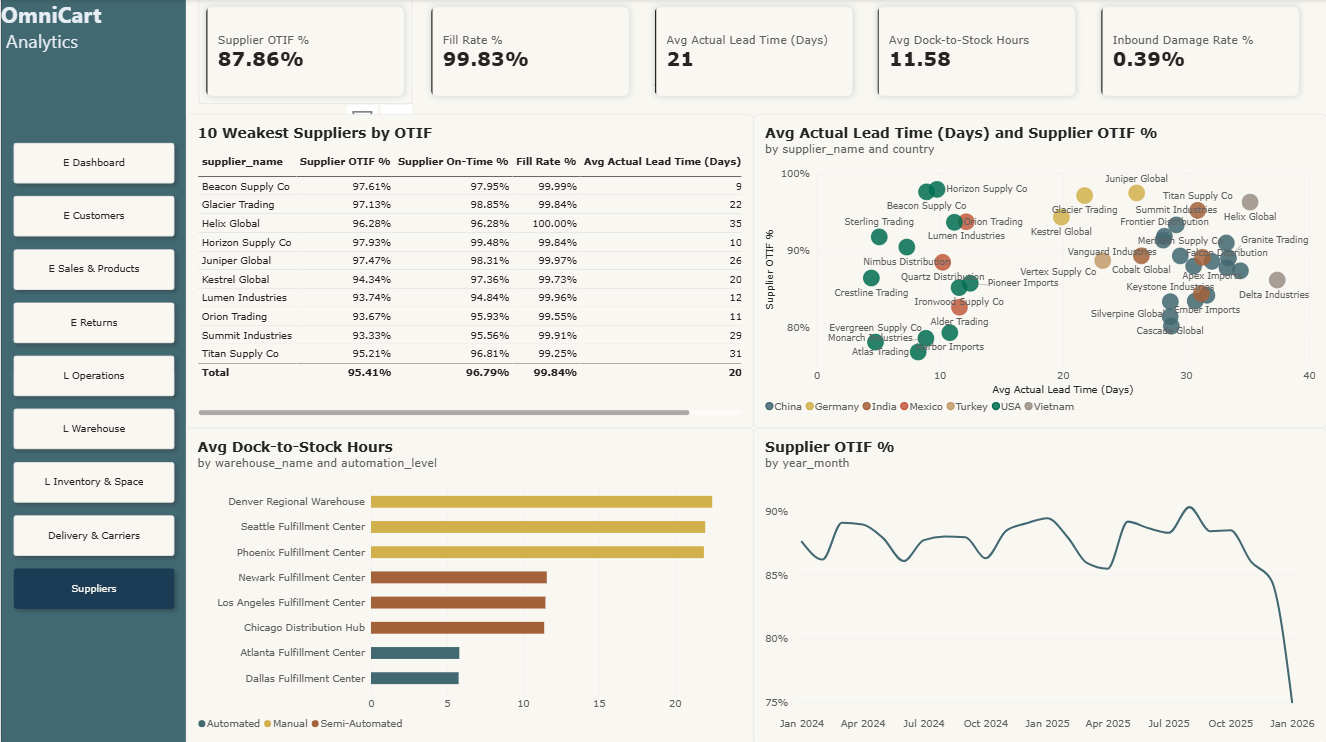

The dashboard page shown, as its layout file describes it:
{"tool":"powerbi","page":{"name":"Suppliers ","canvas":[1920,1080],"ordinal":8},"visuals":[{"type":"shape","box":[0,0,267.6,1080.6],"z":0},{"type":"pageNavigator","box":[8.1,199.1,251.5,698.5],"z":1000},{"type":"textbox","box":[-0.9,0,267.8,115.8],"z":2000},{"type":"cardVisual","fields":{"Data":["_Measures.Supplier OTIF %"]},"box":[285.9,0,309.5,152],"z":4000},{"type":"cardVisual","fields":{"Data":["_Measures.Inbound Damage Rate %"]},"box":[1581.6,0,309.5,152],"z":5000},{"type":"cardVisual","fields":{"Data":["_Measures.Fill Rate %"]},"box":[611.7,0,309,152],"z":6000},{"type":"cardVisual","fields":{"Data":["_Measures.Avg Dock-to-Stock Hours"]},"box":[1257.7,0,309.5,152],"z":7000},{"type":"cardVisual","fields":{"Data":["_Measures.Avg Actual Lead Time (Days)"]},"box":[935.6,0,309,152],"z":8000},{"type":"tableEx","title":"10 Weakest Suppliers by OTIF","fields":{"Values":["dim_supplier.supplier_name","_Measures.Supplier OTIF %","_Measures.Supplier On-Time %","_Measures.Fill Rate %","_Measures.Avg Actual Lead Time (Days)","_Measures.Receipts"]},"box":[267.8,166.5,821.6,454.2],"z":9000},{"type":"scatterChart","fields":{"Category":["dim_supplier.supplier_name"],"Series":["dim_supplier.country"],"X":["_Measures.Avg Actual Lead Time (Days)"],"Y":["_Measures.Supplier OTIF %"]},"box":[1089.4,166.5,830.6,454.2],"z":10000},{"type":"barChart","fields":{"Category":["dim_warehouse.warehouse_name"],"Series":["dim_warehouse.automation_level"],"Y":["_Measures.Avg Dock-to-Stock Hours"]},"box":[268,620,822,460],"z":11000},{"type":"lineChart","fields":{"Category":["dim_date.year_month"],"Y":["_Measures.Supplier OTIF %"]},"box":[1090,620,830,460],"z":12000}]}

Visuals, with their boxes on the page's 1920x1080 design canvas (x1, y1, x2, y2). These are canvas units, not pixel positions in the 1326x742 screenshot, which may show the page scaled, cropped or inside an application window:
shape: select_region(0, 0, 268, 1081)
pageNavigator: select_region(8, 199, 260, 898)
textbox: select_region(-1, 0, 267, 116)
cardVisual - _Measures.Supplier OTIF %: select_region(286, 0, 595, 152)
cardVisual - _Measures.Inbound Damage Rate %: select_region(1582, 0, 1891, 152)
cardVisual - _Measures.Fill Rate %: select_region(612, 0, 921, 152)
cardVisual - _Measures.Avg Dock-to-Stock Hours: select_region(1258, 0, 1567, 152)
cardVisual - _Measures.Avg Actual Lead Time (Days): select_region(936, 0, 1245, 152)
"10 Weakest Suppliers by OTIF" tableEx: select_region(268, 166, 1089, 621)
scatterChart - dim_supplier.supplier_name x dim_supplier.country: select_region(1089, 166, 1920, 621)
barChart - dim_warehouse.warehouse_name x dim_warehouse.automation_level: select_region(268, 620, 1090, 1080)
lineChart - dim_date.year_month x _Measures.Supplier OTIF %: select_region(1090, 620, 1920, 1080)
